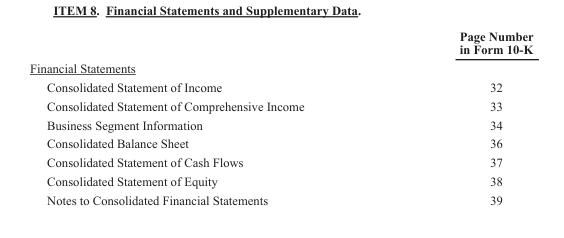table: (29, 28, 532, 206)
table column: (29, 28, 381, 206), (381, 28, 532, 206)
table column header: (29, 28, 532, 57)
table projected row header: (29, 57, 532, 76)
table row: (29, 28, 532, 57), (29, 57, 532, 76), (29, 76, 532, 95), (29, 95, 532, 114), (29, 114, 532, 133), (29, 133, 532, 152), (29, 152, 532, 171), (29, 171, 532, 190), (29, 190, 532, 206)
